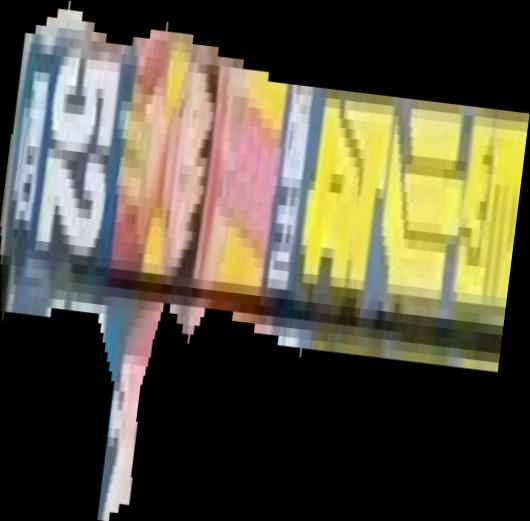flat: (1, 1, 530, 521)
